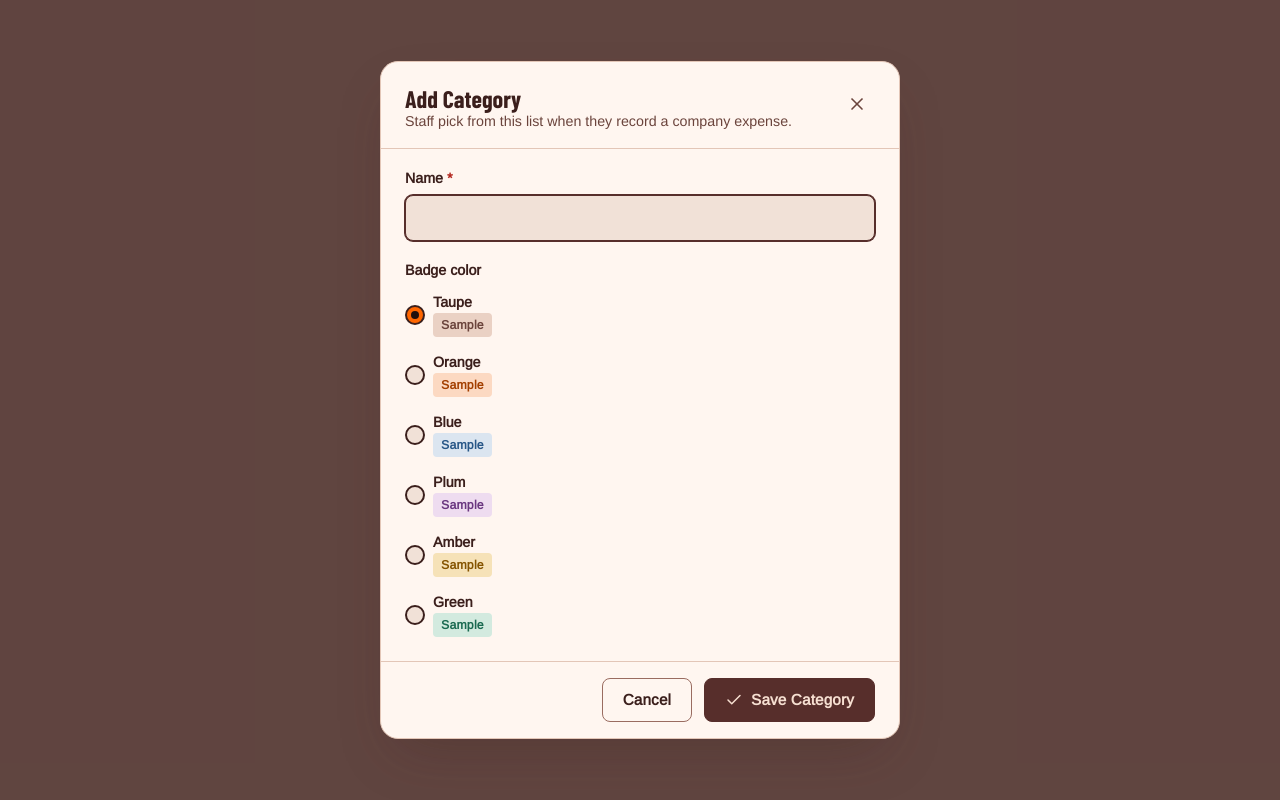
Test case: S2 add mode › shows "Enter a category name." under Name before any request, and puts focus on Name
Click the button "Save Category".
click(790, 700)  # box top-left (704, 678), bottom-right (875, 722)
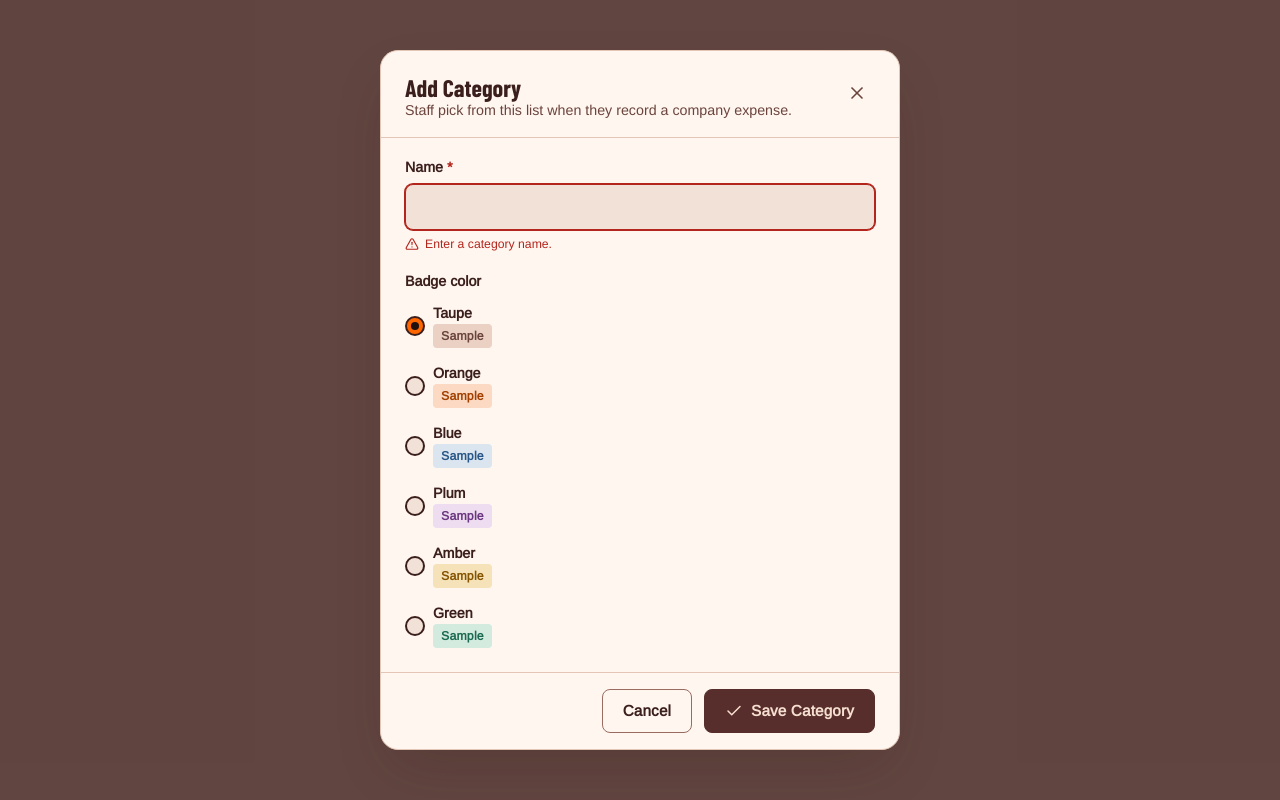
expect the text "Enter a category name." is shown: met, box top-left (405, 237), bottom-right (552, 251)
